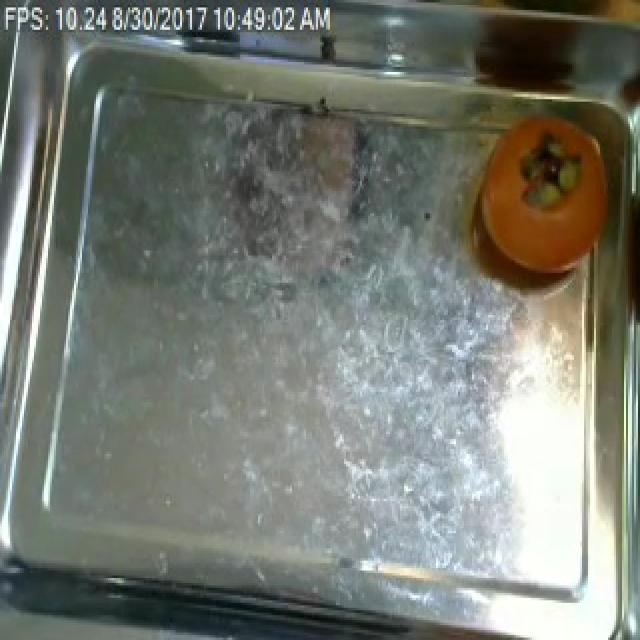Fruit: (468, 101, 620, 288)
